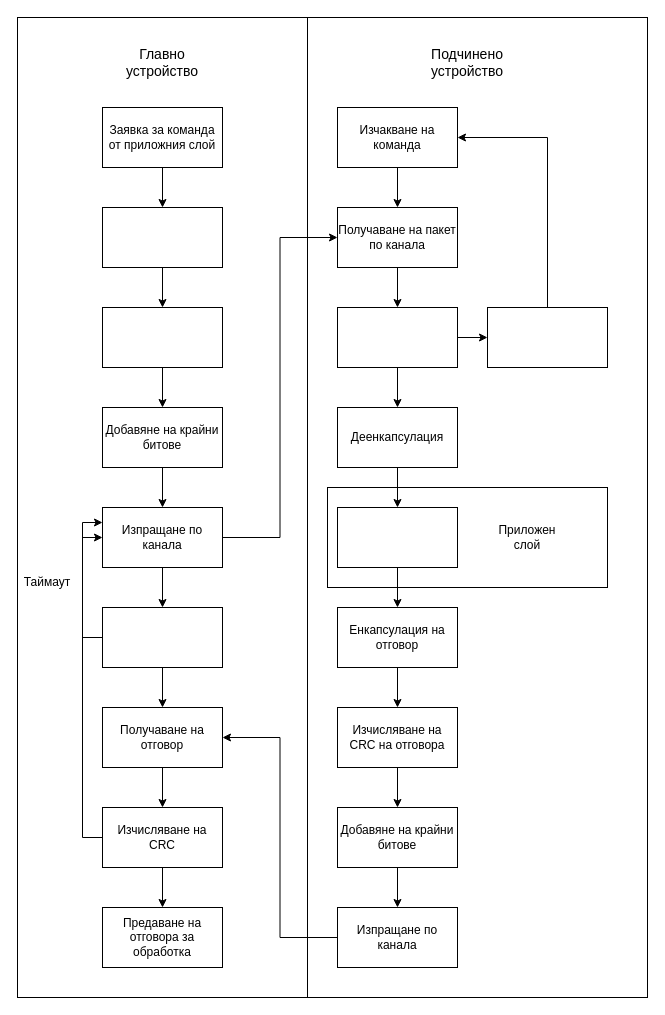
This 665x1015 diagram has some shape labels left out. The shapes that lost their labels are listed below. From the top down, each one's box as (x1, y1, x2, y2) in pixels, then its label:
(102, 206, 222, 268): Енкапсулация на командата
(102, 306, 222, 368): Изчисляване на CRC за пакета
(336, 306, 458, 368): Проверка за валидност на пакета. Изчисляване на CRC
(486, 306, 608, 368): Отхвърляне на пакета
(336, 506, 458, 568): Предаване на командата за обработка
(102, 606, 222, 668): Изчакване на отговор
